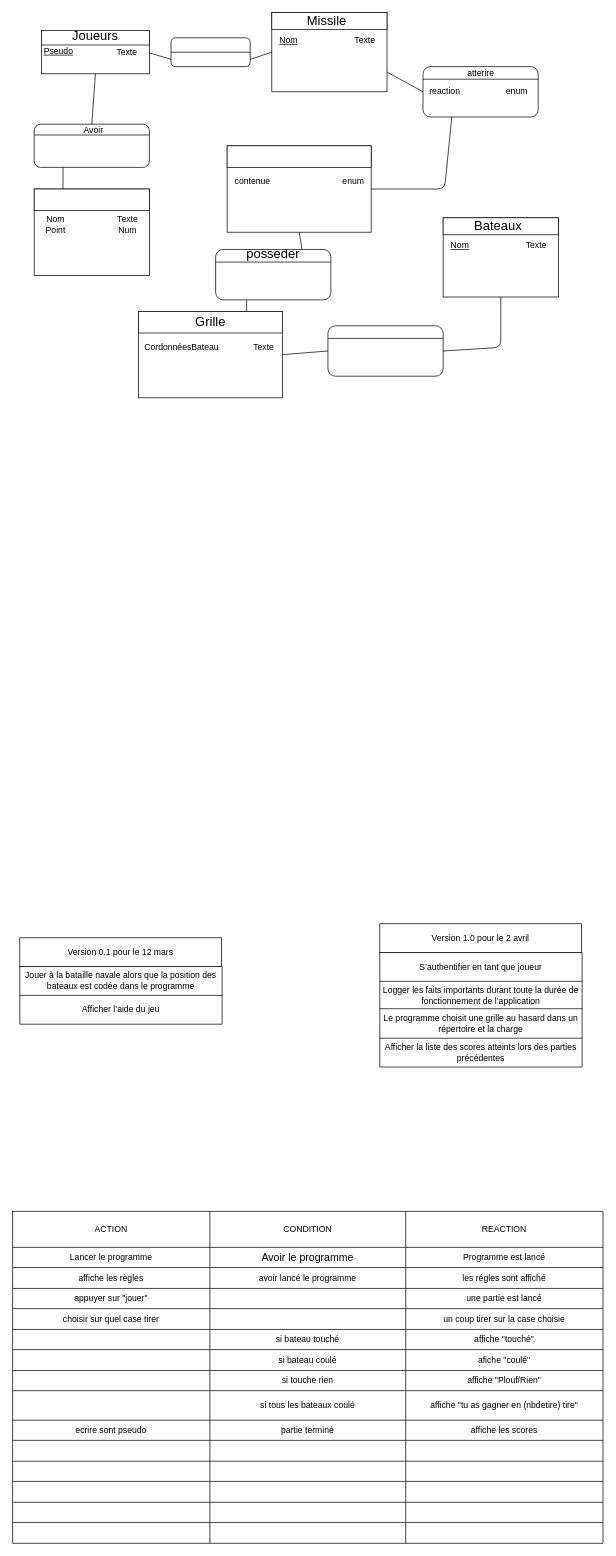
This 616x1556 diagram has some shape labels left out. The box of each missing label's shape, as (x1, y1, x2, y2) in pixels:
Case: (226, 145, 371, 167)
placer: (327, 325, 443, 376)
Scores: (33, 188, 149, 211)
tirer: (170, 37, 250, 67)
